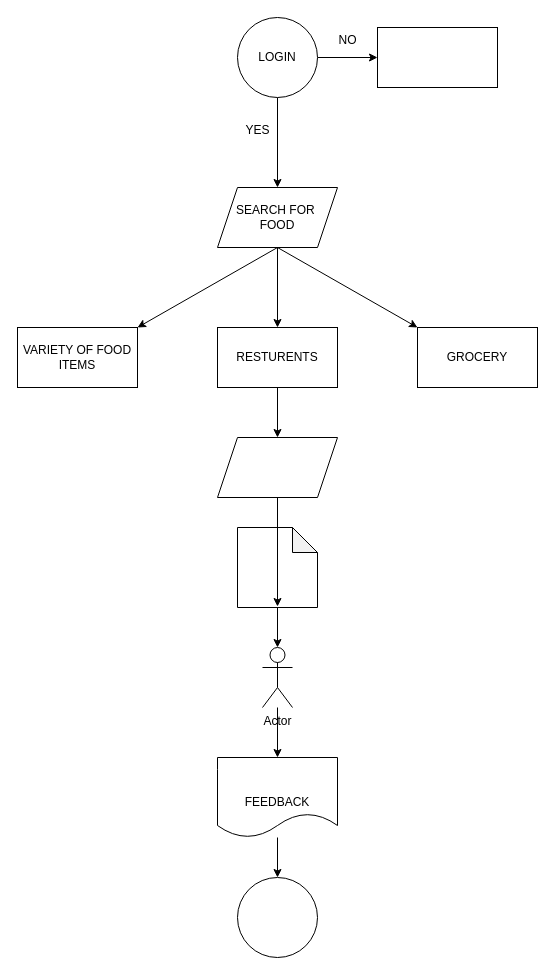
This 555x975 diagram has some shape labels left out. Here are the shapes that lost their labels. From the top down, the box of each, then its label:
(376, 26, 498, 88): REGISTER
(216, 436, 338, 498): ADDRESS
(236, 526, 318, 608): BILL
(236, 876, 318, 958): END
